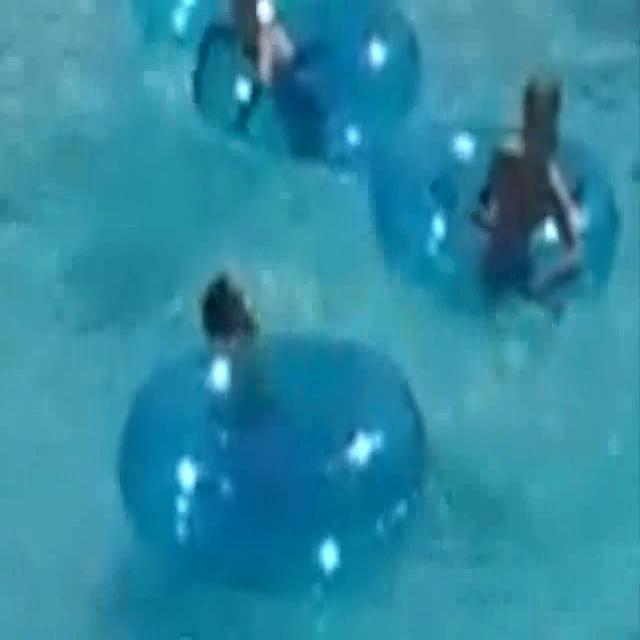Out of Water: (148, 232, 317, 344)
